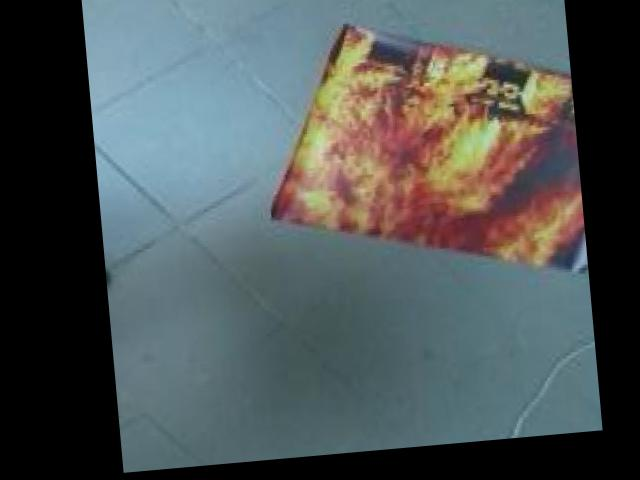fire-poster: (251, 12, 583, 311)
